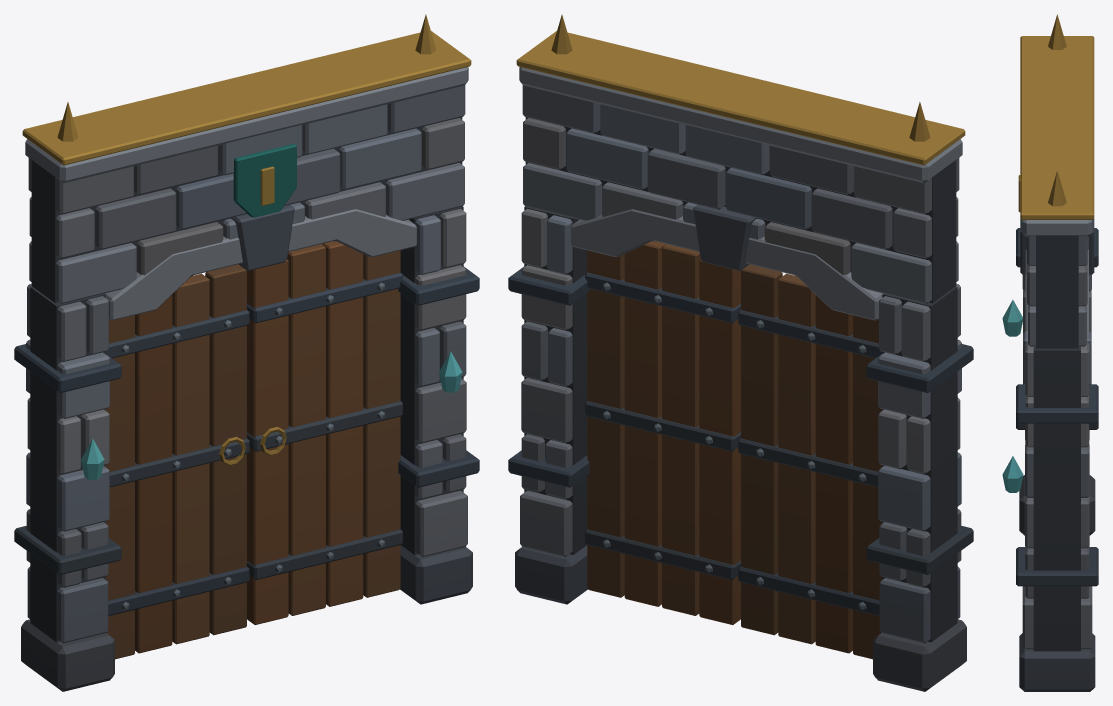
The model's file is def_castlegate.glb.
The picture shows the model from 3 angles, left to right: view 1: azimuth 30°, elevation 25°; view 2: azimuth 150°, elevation 25°; view 3: azimuth 270°, elevation 25°; orthographic projection. The views are drawn at different scales.
Visible parts, largest first — view 1: Base, DoorR.001, DoorL.001, Up2, Up3; view 2: Base, DoorR.001, DoorL.001, Up2, Up3; view 3: Base, Up2, Up3.
Boxes of the visible parts, x1=… form: Base: x1=21, y1=31, x2=472, y2=691; DoorR.001: x1=247, y1=241, x2=402, y2=624; DoorL.001: x1=105, y1=264, x2=249, y2=659; Up2: x1=14, y1=266, x2=479, y2=574; Up3: x1=57, y1=14, x2=462, y2=479; Base: x1=515, y1=31, x2=966, y2=691; DoorR.001: x1=585, y1=241, x2=740, y2=624; DoorL.001: x1=738, y1=264, x2=882, y2=659; Up2: x1=508, y1=266, x2=973, y2=574; Up3: x1=551, y1=14, x2=930, y2=141; Base: x1=1018, y1=36, x2=1095, y2=691; Up2: x1=1016, y1=228, x2=1098, y2=586; Up3: x1=1002, y1=14, x2=1066, y2=492.
Bounding box in the file's own units: 4.12 × 5.34 × 0.91.
